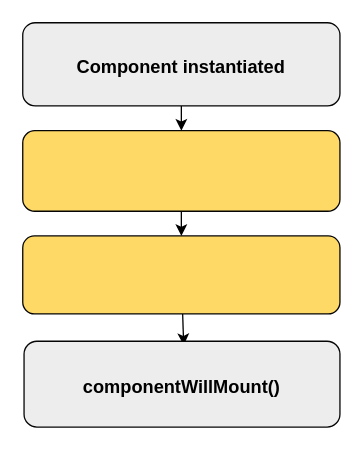
Image size: 363x450. Some labels were removed from this diagram. Each missing label, with the centre of its shape:
default props: (x=180, y=274)
initial state: (x=180, y=170)
